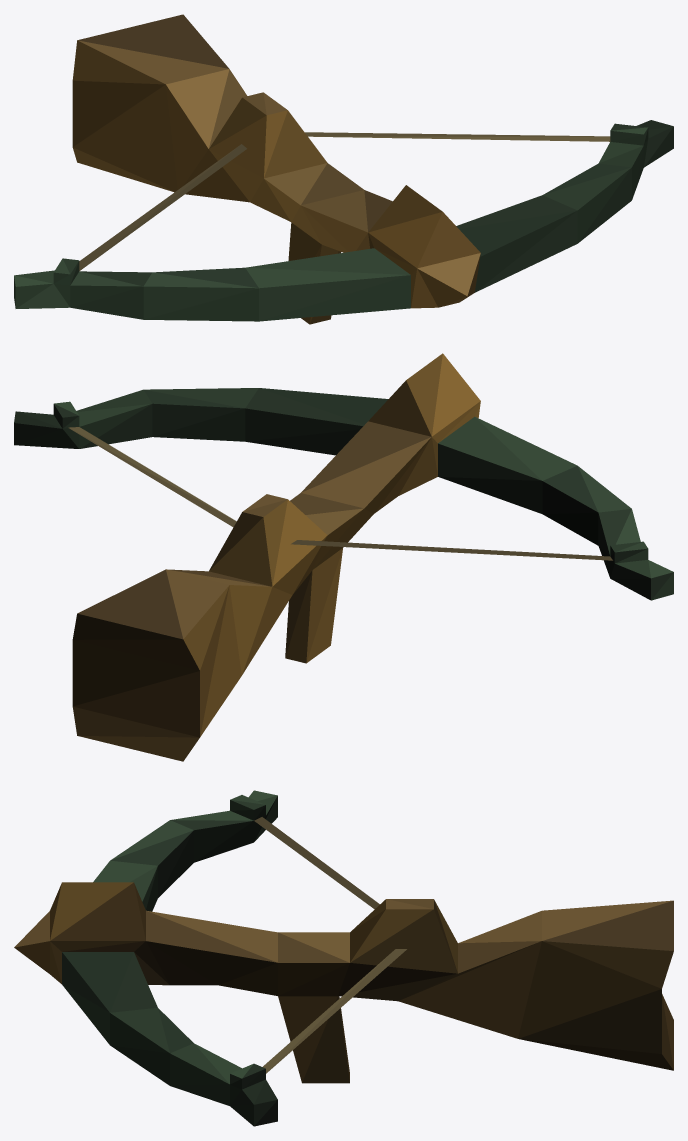
Rendered from adamant-crossbow.obj.
The picture shows the model from 3 angles, top to bottom: view 1: azimuth 30°, elevation 25°; view 2: azimuth 150°, elevation 25°; view 3: azimuth 270°, elevation 25°; orthographic projection. The views are drawn at different scales.
Visible parts, largest first — view 1: Item Adamant crossbow 2026-09-24_13-53-05; view 2: Item Adamant crossbow 2026-09-24_13-53-05; view 3: Item Adamant crossbow 2026-09-24_13-53-05.
Boxes of the visible parts, bbox=[...] form: Item Adamant crossbow 2026-09-24_13-53-05: bbox=[14, 14, 673, 324]; Item Adamant crossbow 2026-09-24_13-53-05: bbox=[14, 353, 673, 761]; Item Adamant crossbow 2026-09-24_13-53-05: bbox=[14, 790, 673, 1126].
Size of the model in its own units: 62 by 18 by 55.
